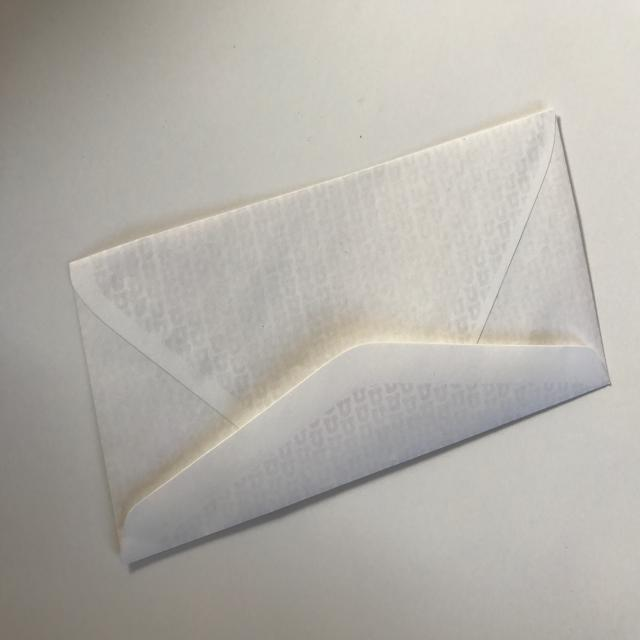paper: (52, 89, 618, 580)
